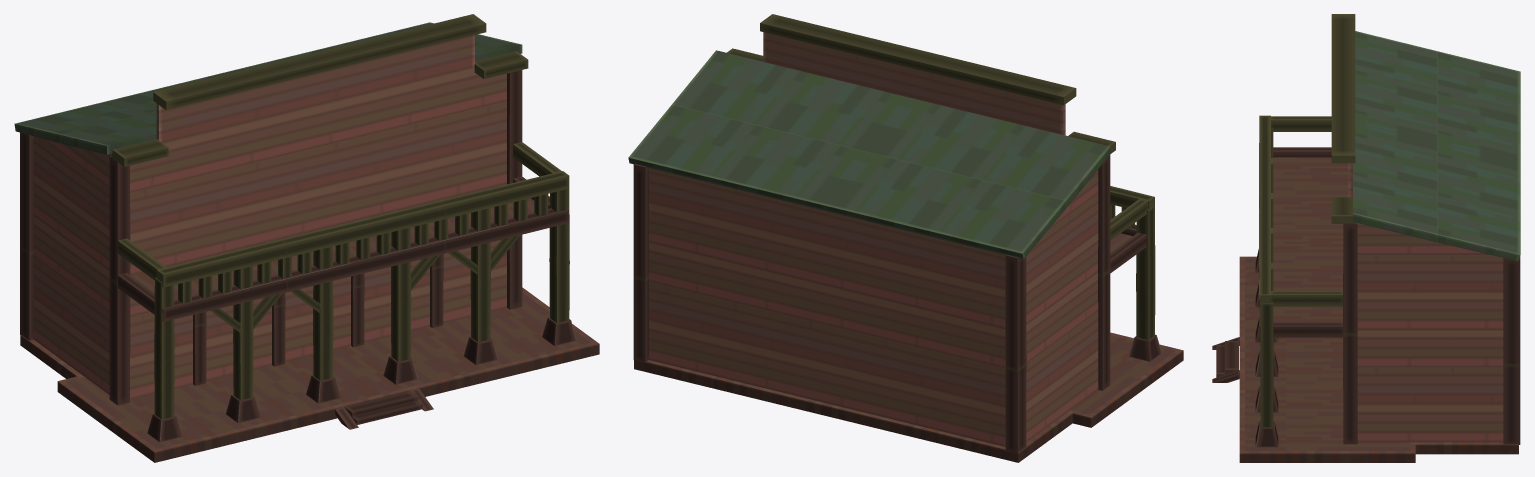
The model's file is house_v1_blank.fbx.
3 renders of one model, left to right at view 1: azimuth 30°, elevation 25°; view 2: azimuth 150°, elevation 25°; view 3: azimuth 270°, elevation 25°, orthographic. The views are drawn at different scales.
Parts seen in each view (by area): view 1: house_v1_blank; view 2: house_v1_blank; view 3: house_v1_blank.
Boxes of the visible parts, x1,y1,x2,y2 form: house_v1_blank: (14, 14, 599, 462); house_v1_blank: (628, 14, 1183, 462); house_v1_blank: (1212, 14, 1520, 462).
Bounding box in the file's own units: 1126 × 747 × 745.
